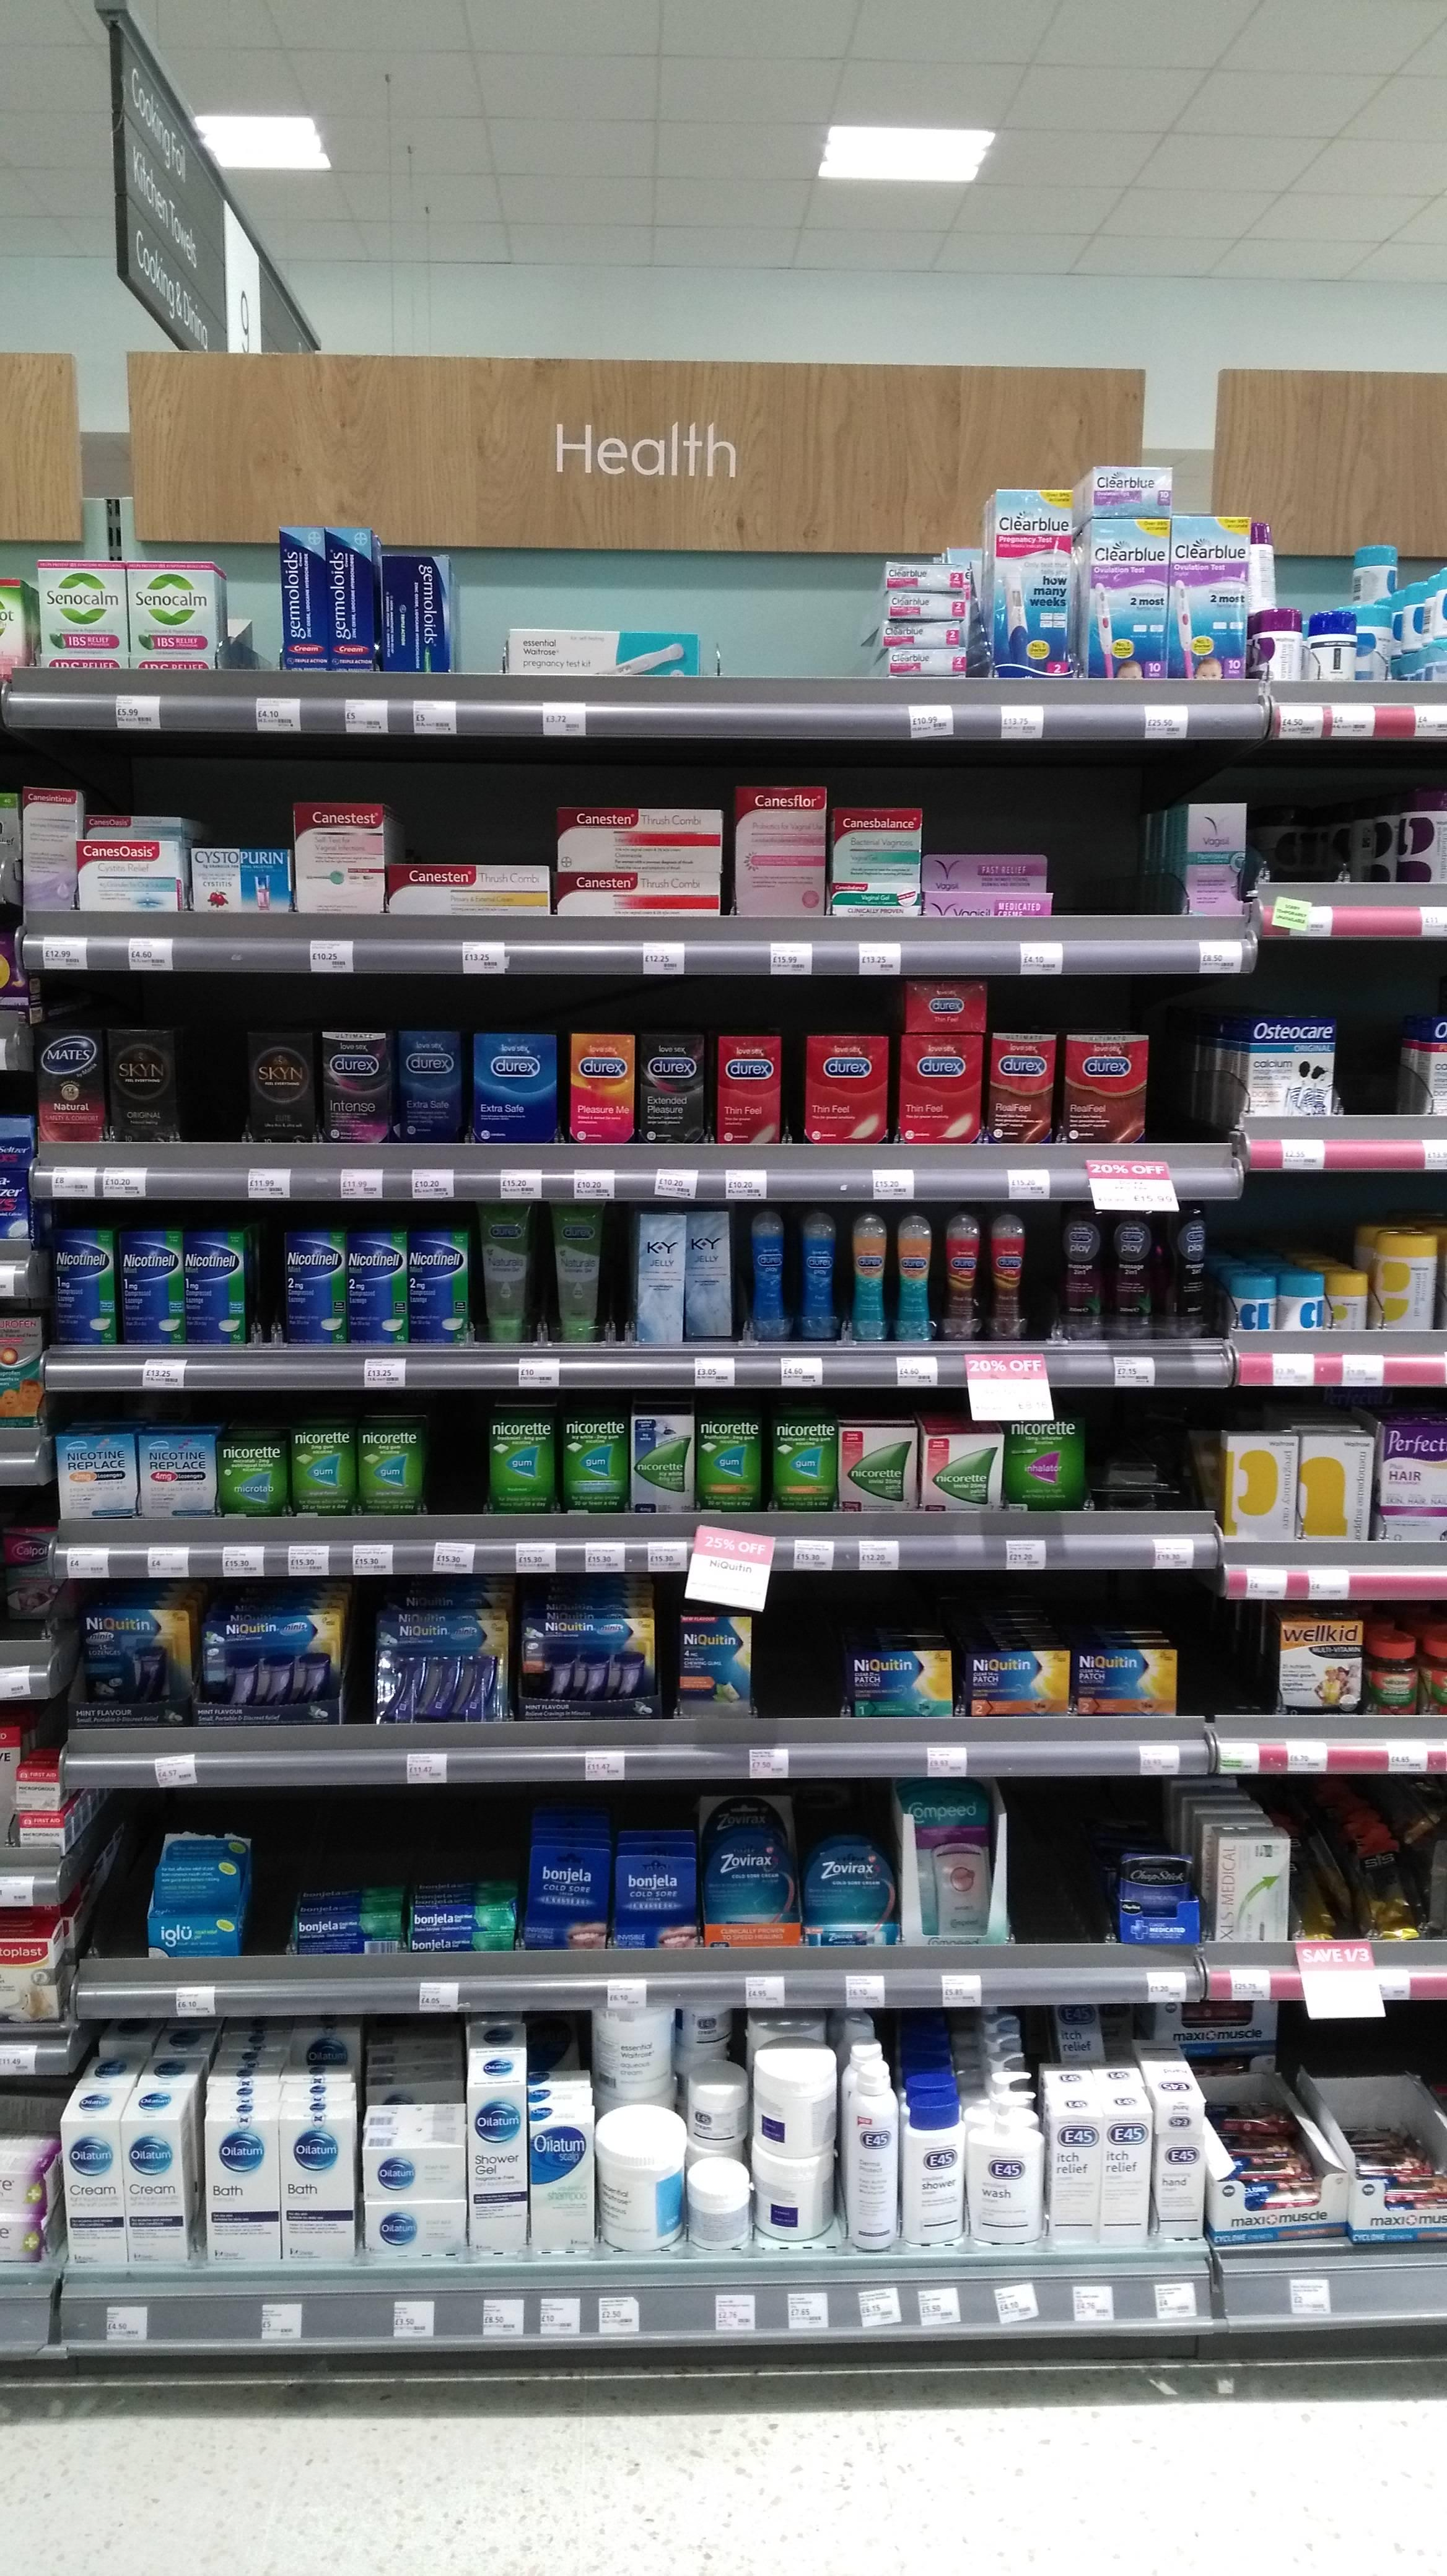empty: (731, 577, 858, 681), (1012, 1798, 1097, 1948), (1056, 810, 1139, 918), (768, 1608, 835, 1732), (1337, 993, 1408, 1109), (1185, 1615, 1259, 1707), (180, 1028, 241, 1139), (432, 1408, 479, 1518), (1157, 1017, 1199, 1136)
misalignment: (681, 1203, 734, 1341), (1164, 1212, 1215, 1339)
